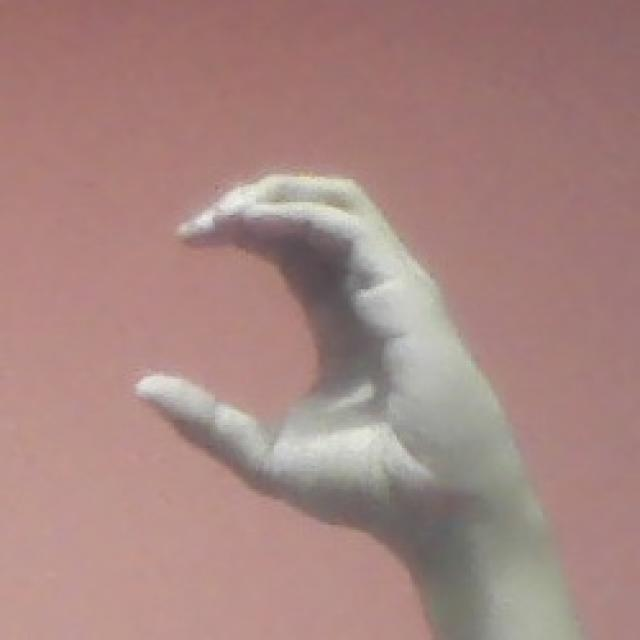Alphabet-C: (134, 169, 521, 556), (560, 469, 560, 469)
